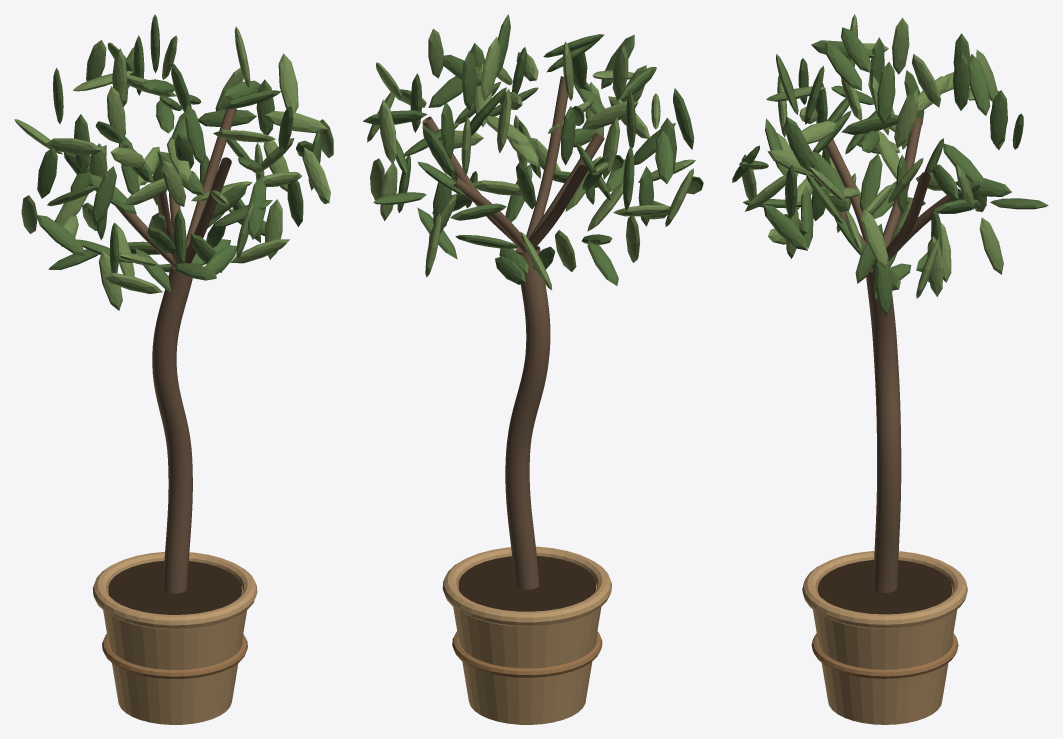
File: plant-olive.glb
3 views of the same model, side by side, from view 1: azimuth 30°, elevation 25°; view 2: azimuth 150°, elevation 25°; view 3: azimuth 270°, elevation 25° (orthographic). The views are drawn at different scales.
Parts seen in each view (by area): view 1: leaves-leaf, leaves-leaf_light, basket-pot, trunk, soil, basket-rim, basket-band, branch-0, branch-2, branch-1; view 2: leaves-leaf, leaves-leaf_light, basket-pot, trunk, soil, basket-rim, basket-band, branch-2, branch-1, branch-3, branch-4, branch-0; view 3: leaves-leaf, leaves-leaf_light, basket-pot, trunk, soil, basket-rim, basket-band, branch-0, branch-1, branch-4.
Boxes of the visible parts, x1,y1,x2,y2 form: leaves-leaf: (36,14,327,292); leaves-leaf_light: (14,26,333,310); basket-pot: (103,585,246,724); trunk: (152,265,192,593); soil: (108,561,241,614); basket-rim: (92,552,257,629); basket-band: (102,634,247,678); branch-0: (186,108,236,248); branch-2: (184,157,231,263); branch-1: (115,206,175,268); leaves-leaf: (363,14,703,285); leaves-leaf_light: (367,28,695,290); basket-pot: (453,581,601,724); trunk: (505,246,550,589); soil: (458,556,596,611); basket-rim: (442,546,611,626); basket-band: (452,631,602,677); branch-2: (526,76,567,238); branch-1: (526,164,587,252); branch-3: (451,176,526,252); branch-4: (528,133,604,239); branch-0: (422,116,522,251); leaves-leaf: (732,27,1048,316); leaves-leaf_light: (741,14,1005,298); basket-pot: (813,584,957,724); trunk: (866,267,901,592); soil: (817,560,952,614); basket-rim: (802,551,967,628); basket-band: (811,633,958,678); branch-0: (886,172,930,260); branch-1: (883,117,922,247); branch-4: (825,139,866,241).
Size of the model in its own units: 0.8829 by 1.79 by 0.7752.
